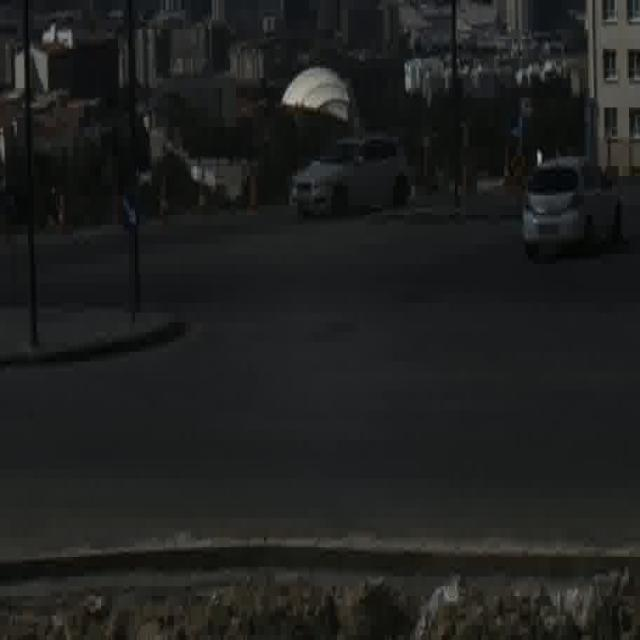Car: (292, 132, 409, 230), (522, 152, 623, 264)
